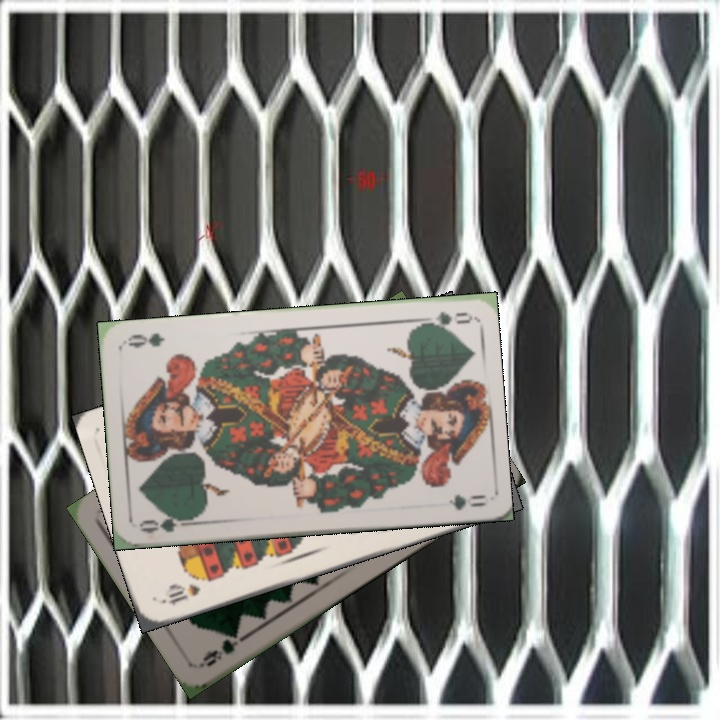G9: (197, 627, 250, 670)
GO: (137, 510, 197, 536), (413, 307, 472, 332)
S10: (158, 579, 203, 608)
